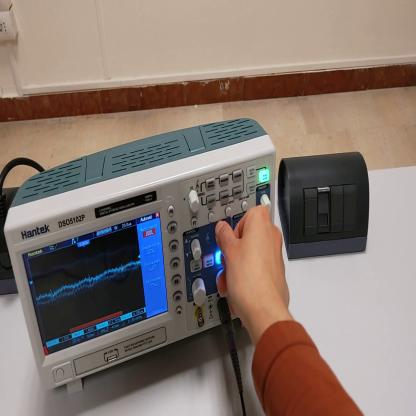hand: (214, 203, 290, 332)
oscilloscope: (5, 117, 276, 396)
socket: (2, 188, 22, 299)
